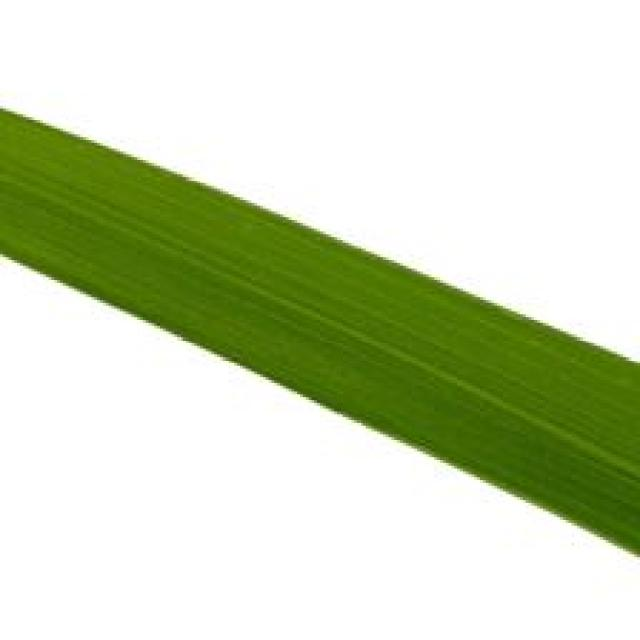Rice___Healthy_Rice_Plant: (0, 104, 637, 559)
